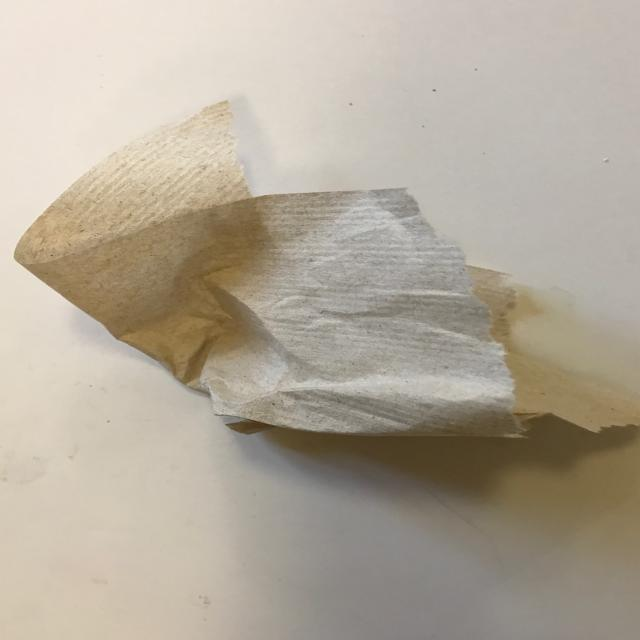trash: (30, 114, 623, 495)
